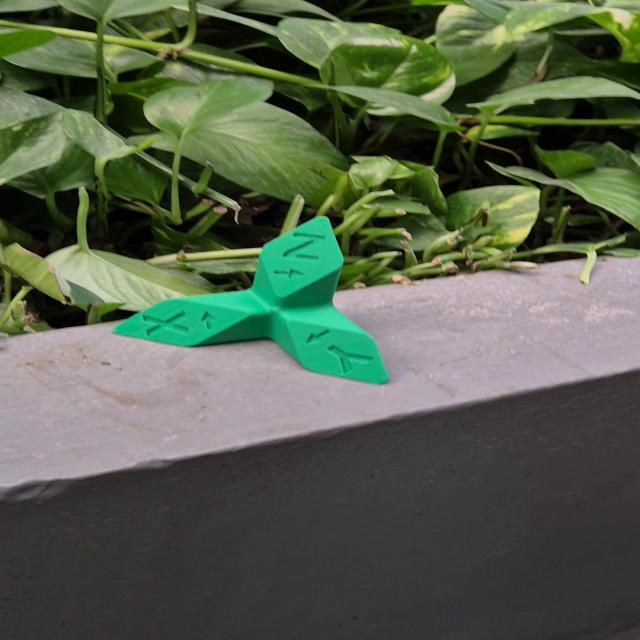objects: (108, 214, 392, 388)
